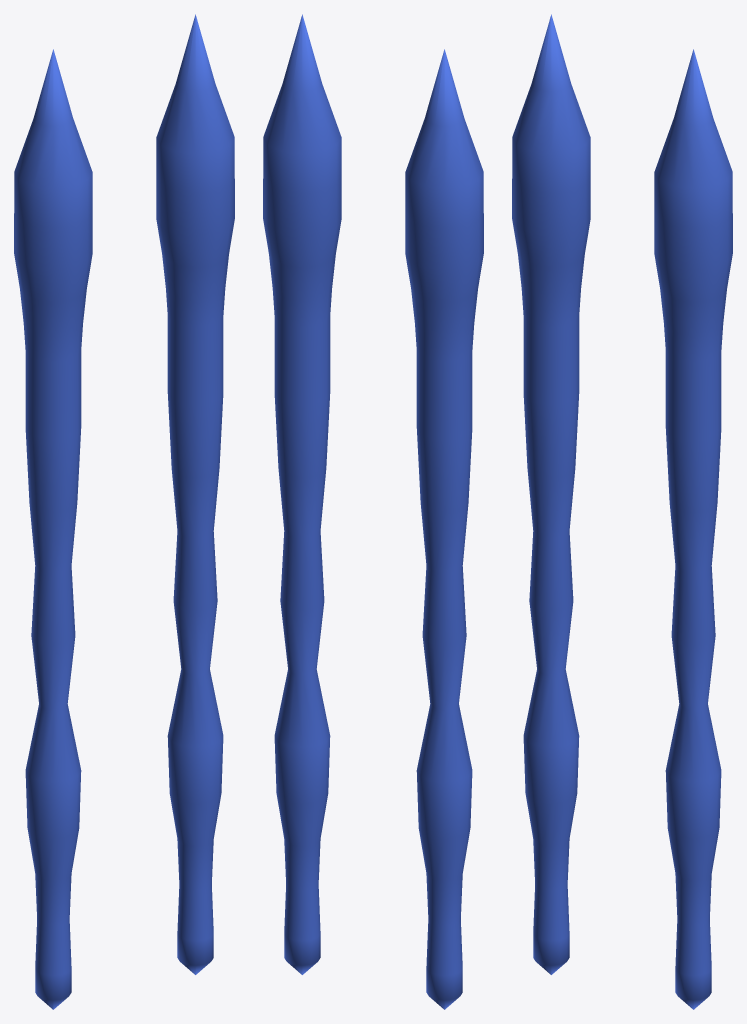
Rendered from krakenWeapon.fbx.
3 views of the same model, side by side, from view 1: azimuth 30°, elevation 25°; view 2: azimuth 150°, elevation 25°; view 3: azimuth 330°, elevation 25° (orthographic).
Visible parts, largest first — view 1: armRight, armLeft; view 2: armRight, armLeft; view 3: armLeft, armRight.
Boxes of the visible parts, box(x1,y1,x2,y2) form: armRight: box(14, 49, 92, 1009); armLeft: box(156, 14, 234, 974); armRight: box(405, 49, 483, 1009); armLeft: box(263, 14, 341, 974); armLeft: box(654, 49, 732, 1009); armRight: box(512, 14, 590, 974).
Bounding box in the file's own units: 829 × 3621 × 268.
